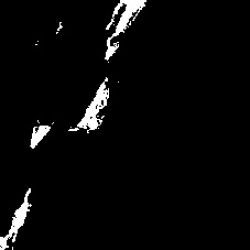crack: (104, 2, 148, 61), (70, 82, 109, 131), (5, 187, 32, 245), (29, 123, 52, 148)
pinhole: (56, 23, 61, 34)
